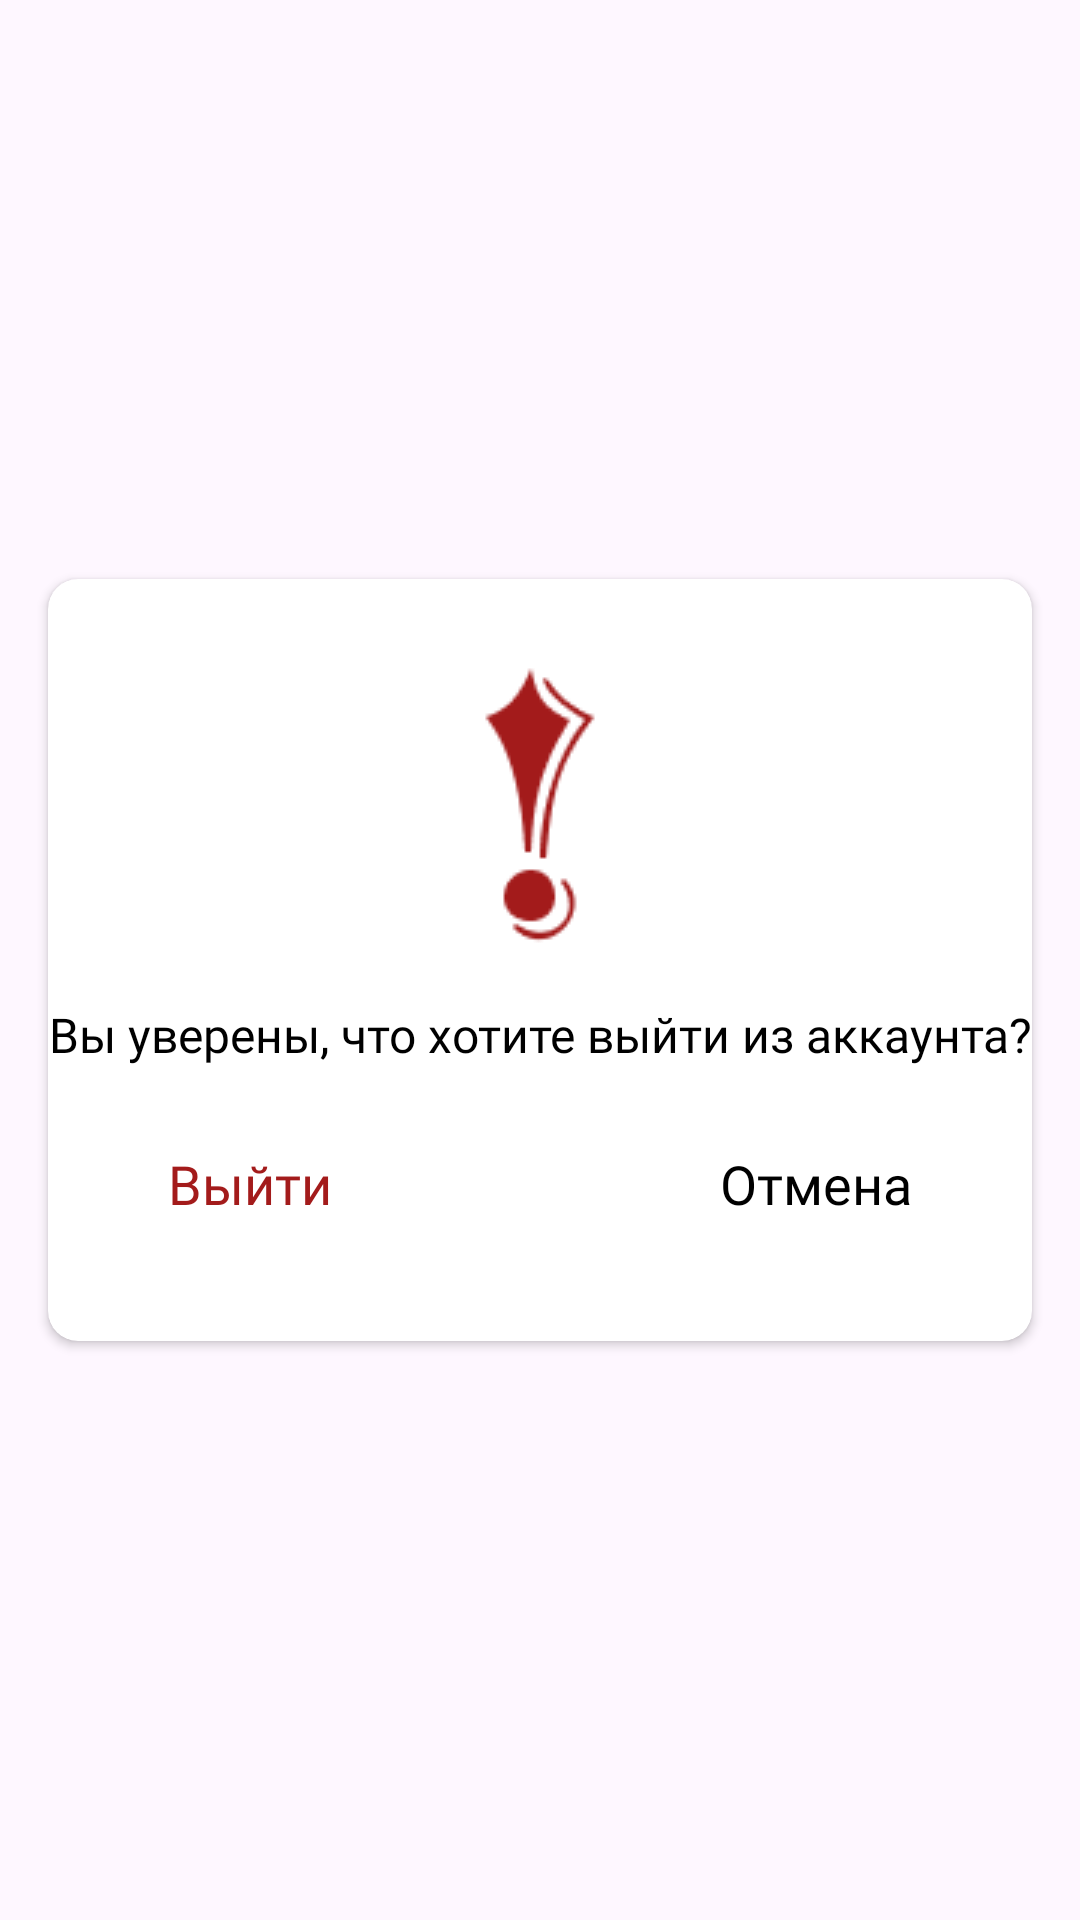

Where icons sit on this 1080x1920 app screen, as (x1, y1, x2, y2):
noun exclamation mark: (485, 669, 595, 941)
